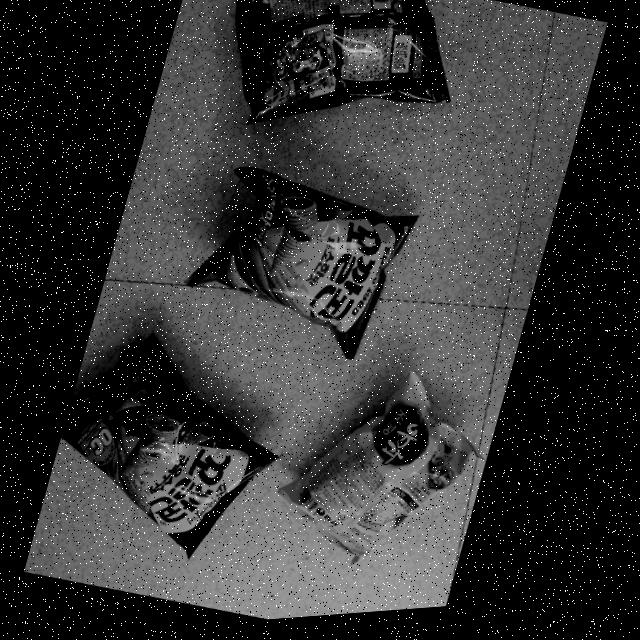bongji: (62, 336, 281, 559), (186, 169, 418, 364), (280, 378, 483, 567), (235, 0, 450, 126)
